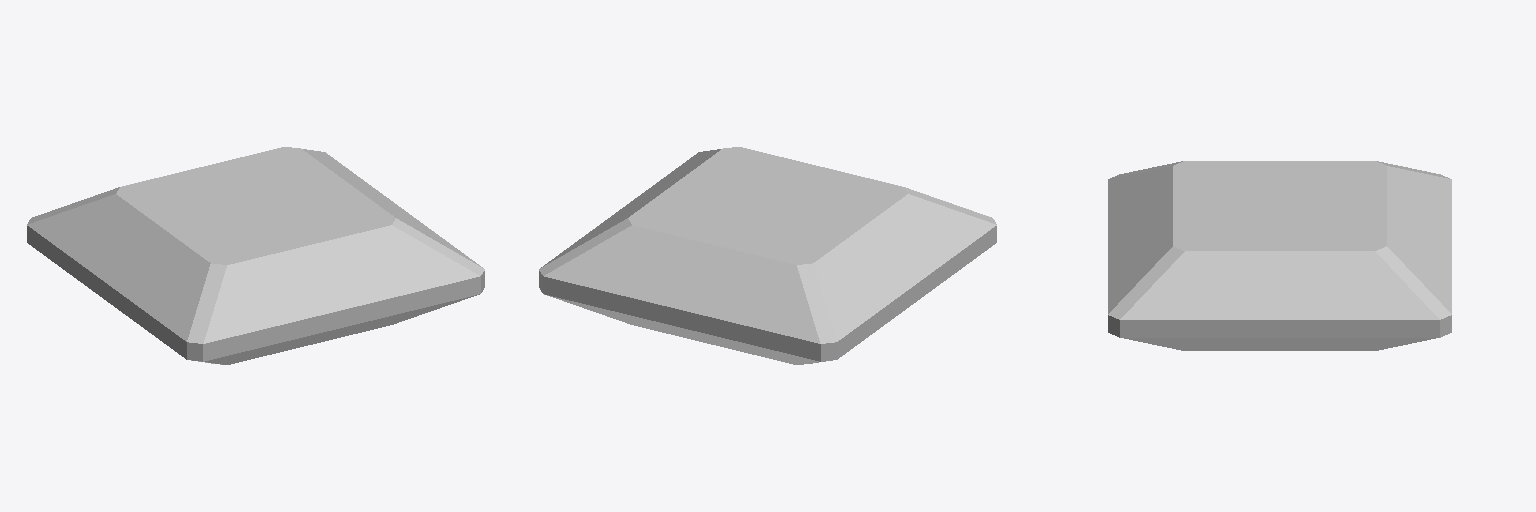
The picture shows the model from 3 angles: view 1: azimuth 30°, elevation 25°; view 2: azimuth 150°, elevation 25°; view 3: azimuth 270°, elevation 25°; orthographic projection.
Visible parts, largest first — view 1: Gemstone_05.004; view 2: Gemstone_05.004; view 3: Gemstone_05.004.
Part boxes in pixels (bbox=[...]): Gemstone_05.004: bbox=[27, 147, 484, 364]; Gemstone_05.004: bbox=[539, 147, 996, 364]; Gemstone_05.004: bbox=[1108, 161, 1451, 350].
Bounding box in the file's own units: 0.8886 × 0.2846 × 0.8886.